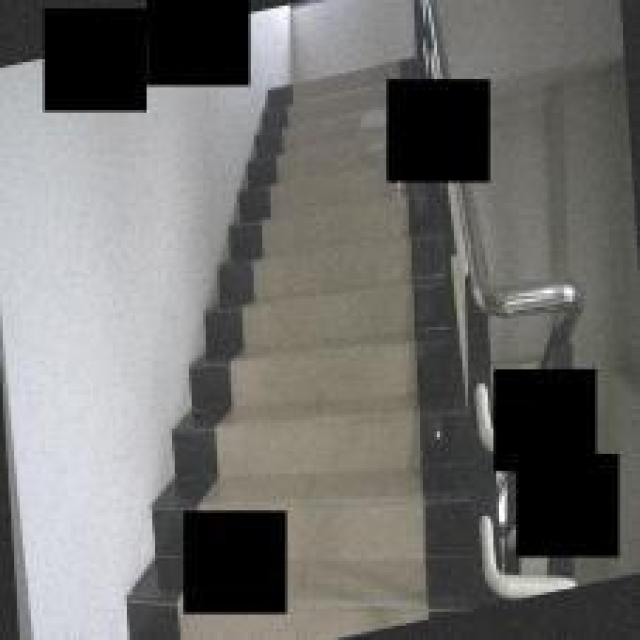upstair: (235, 238, 449, 489)
